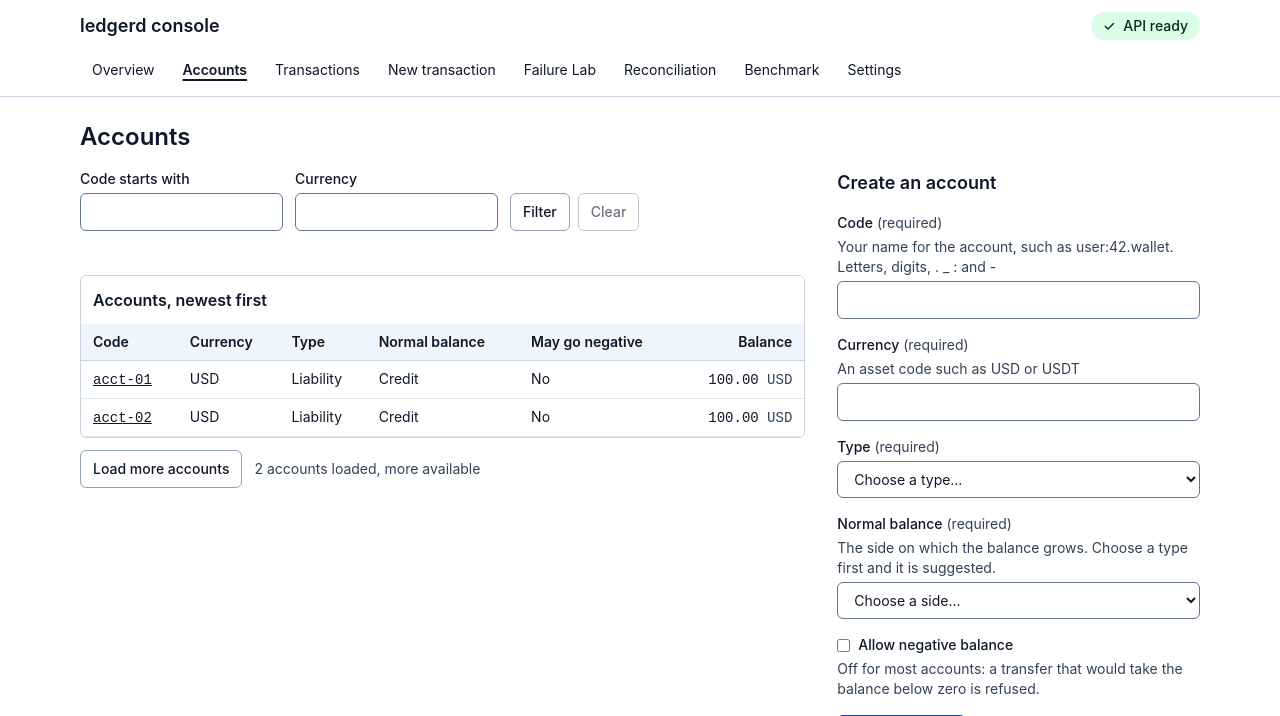
Test: the account list › loads further pages on request, keeping the ones already shown
Expected: the heading "Accounts" is shown, [80, 121, 190, 153]
Expected: the table is shown, [81, 276, 804, 437]
Step 1. Click the button "Load more accounts" → [161, 469], box [80, 450, 242, 488]
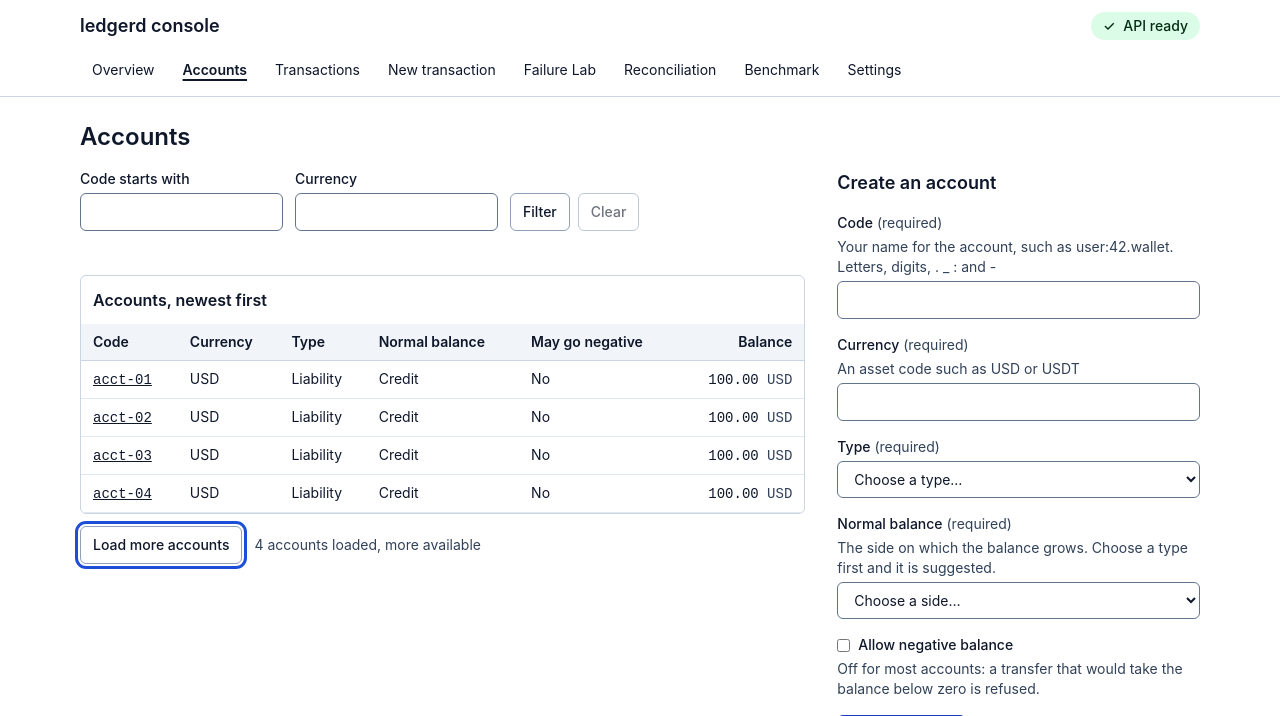
Now the number of links "acct-01" is 4, box [93, 372, 152, 388]; [93, 410, 152, 426]; [93, 448, 152, 464]; [93, 486, 152, 502]
Now the links "acct-" read "acct-01", "acct-02", "acct-03", "acct-04", in this order, box [93, 372, 152, 388]; [93, 410, 152, 426]; [93, 448, 152, 464]; [93, 486, 152, 502]
Step 2. Click the button "Load more accounts" → [161, 545], box [80, 526, 242, 564]
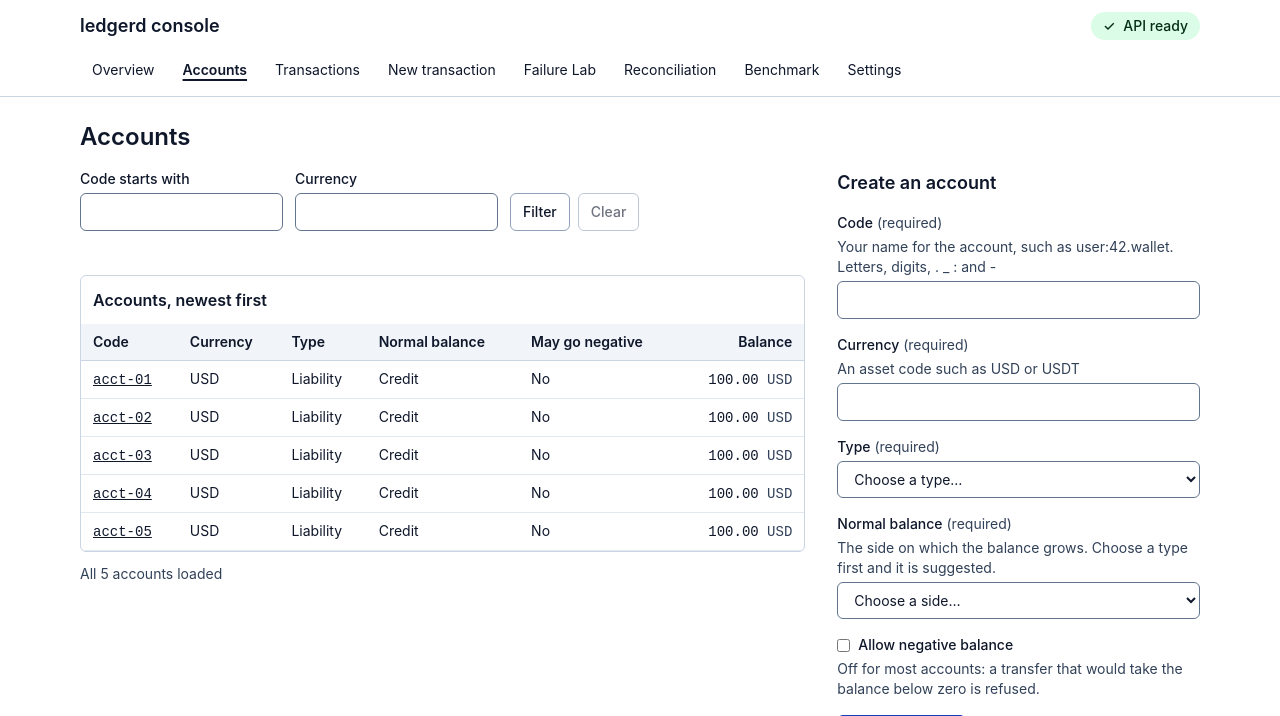
Now the number of links "acct-01" is 5, box [93, 372, 152, 388]; [93, 410, 152, 426]; [93, 448, 152, 464]; [93, 486, 152, 502]; [93, 524, 152, 540]
Now the text "All 5 accounts loaded" is shown, box [80, 564, 222, 584]
Now the button "Load more accounts" is gone
